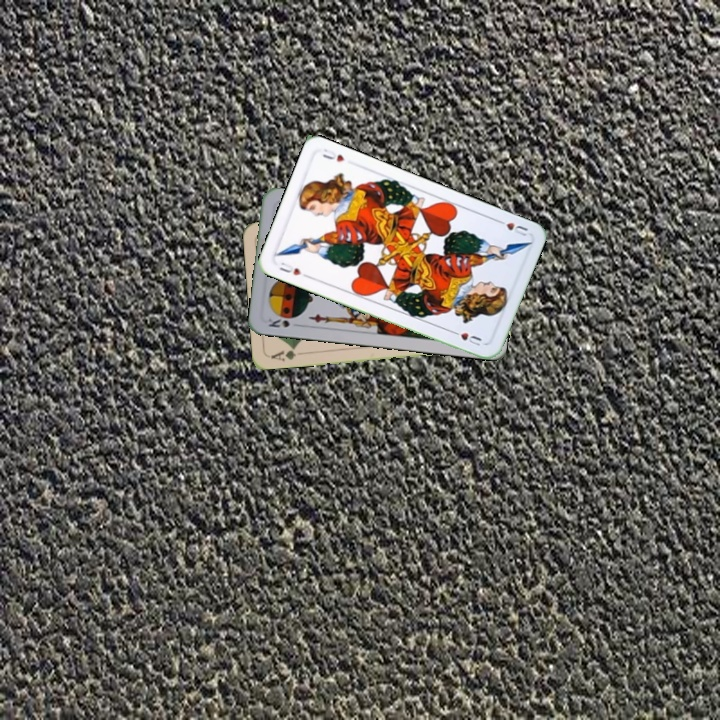GA: (267, 343, 299, 364)
HU: (492, 215, 531, 238), (275, 258, 311, 280)
SK: (263, 312, 298, 330)
